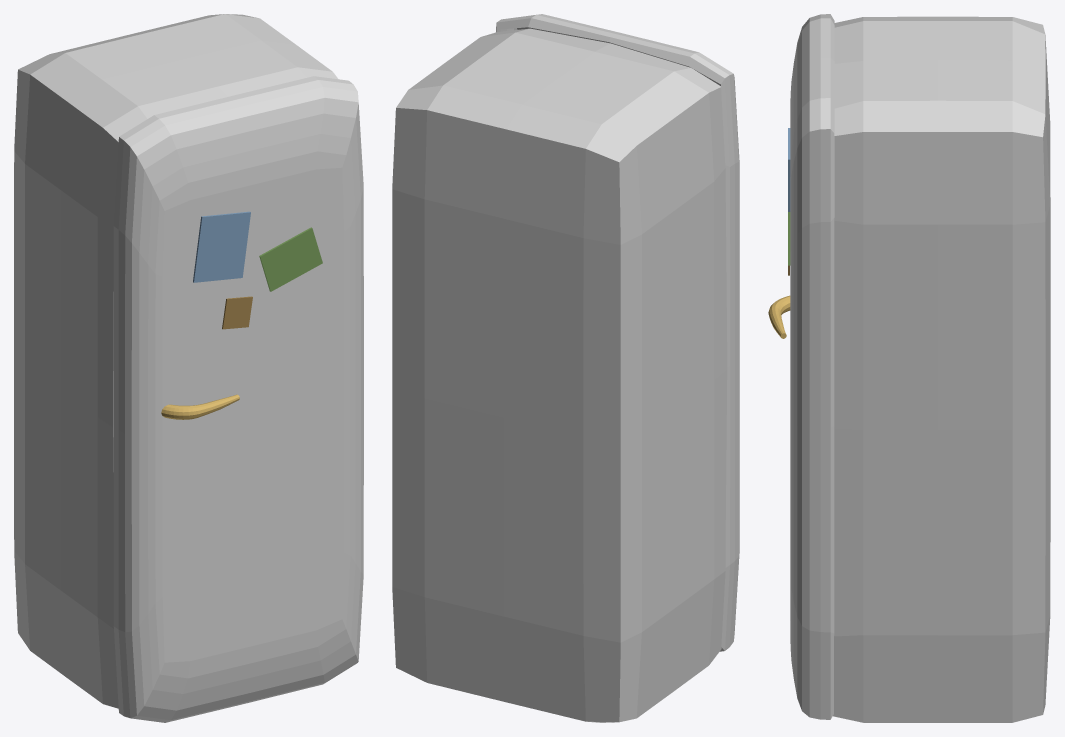
The model's file is nevera.fbx.
The picture shows the model from 3 angles, left to right: view 1: azimuth 30°, elevation 25°; view 2: azimuth 150°, elevation 25°; view 3: azimuth 270°, elevation 25°; orthographic projection. The views are drawn at different scales.
Parts seen in each view (by area): view 1: nevera.001, nevera, FOTOS NEVERA, Torus; view 2: nevera, nevera.001; view 3: nevera, nevera.001, Torus.
Part boxes in pixels (box(x1,y1,x2,y2)): nevera.001: box(113, 76, 363, 722); nevera: box(14, 14, 338, 708); FOTOS NEVERA: box(193, 211, 322, 329); Torus: box(161, 394, 239, 419); nevera: box(392, 28, 727, 722); nevera.001: box(496, 14, 739, 651); nevera: box(833, 16, 1050, 722); nevera.001: box(790, 14, 834, 719); Torus: box(768, 295, 790, 338).
Size of the model in its own units: 220 by 535 by 222.
